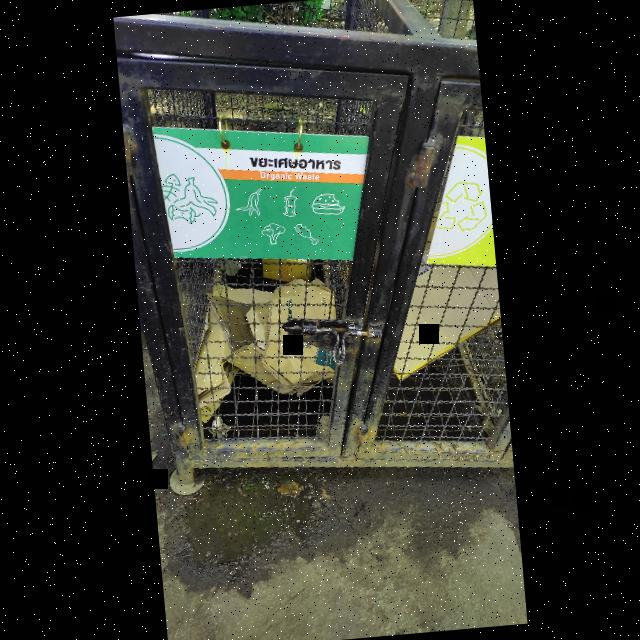plastic_bottle: (174, 271, 367, 428), (382, 266, 507, 392)
